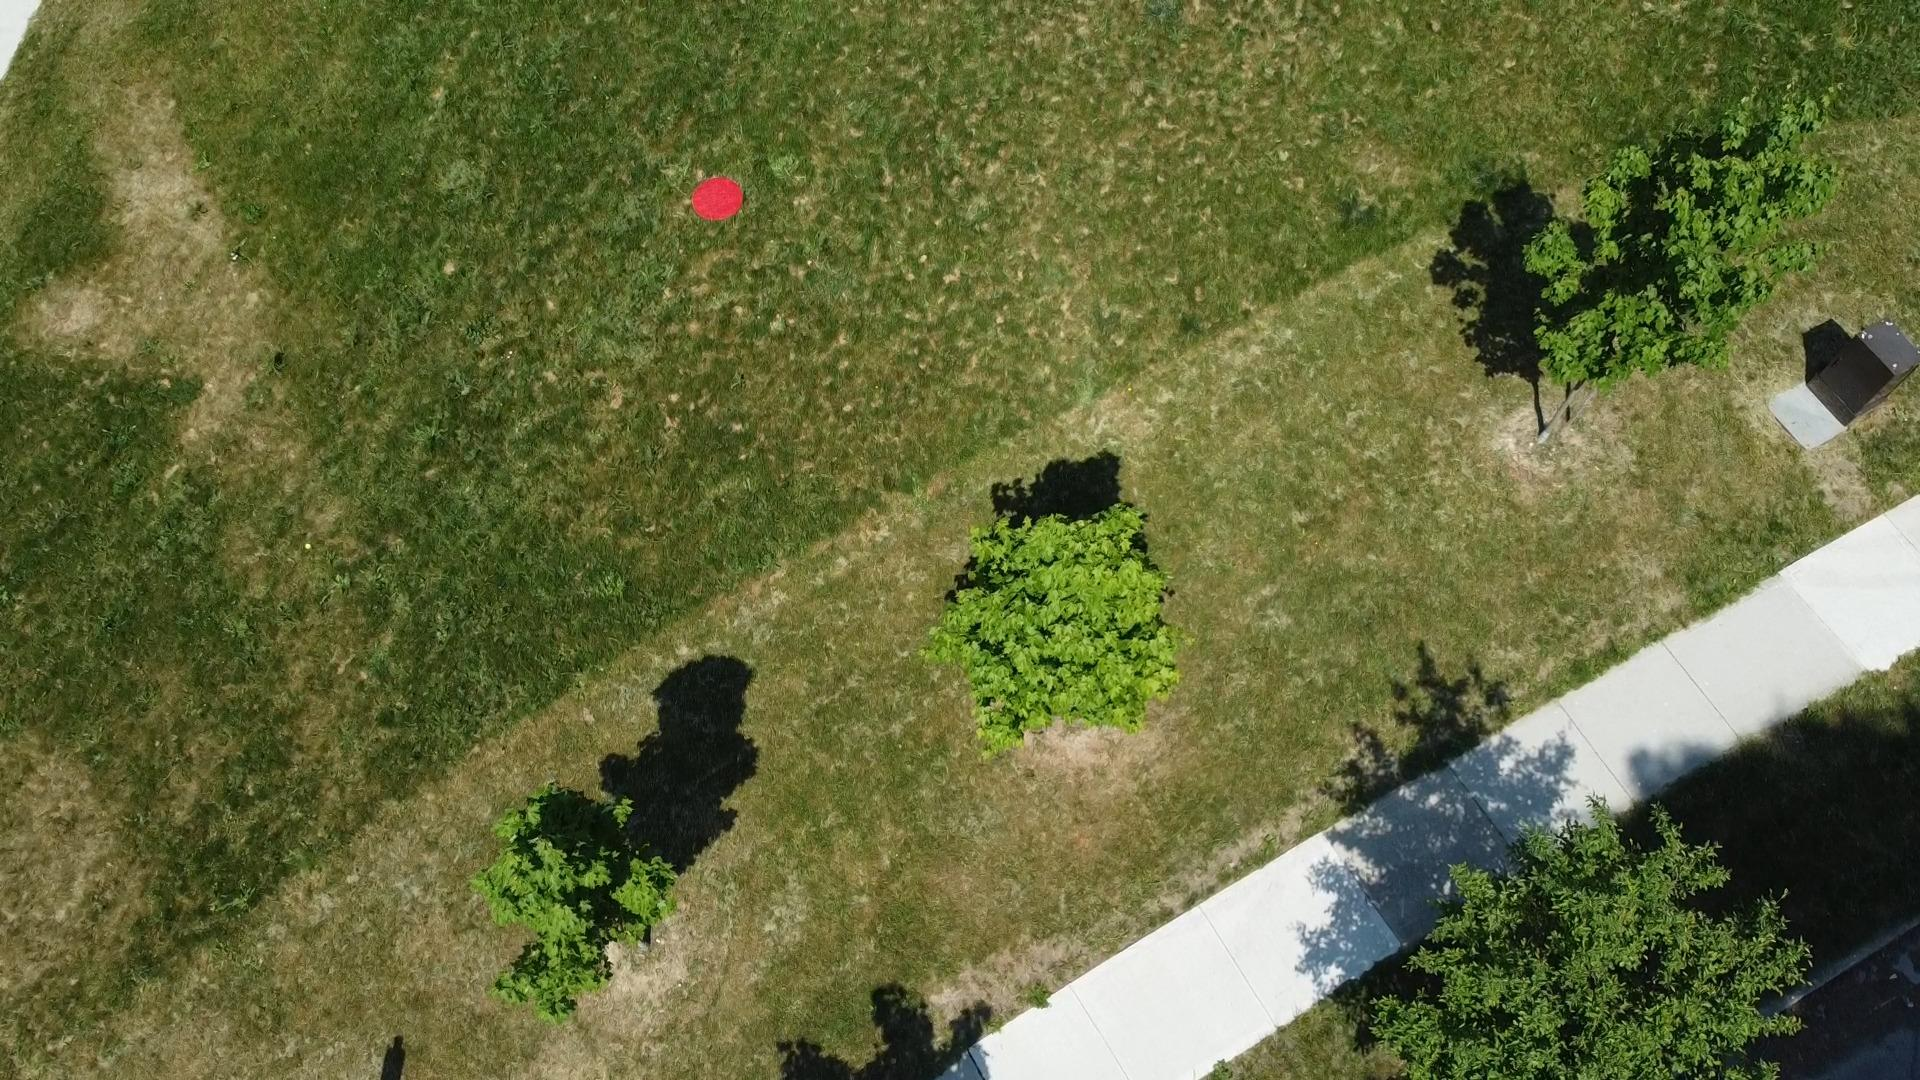Red: (688, 175, 748, 223)
